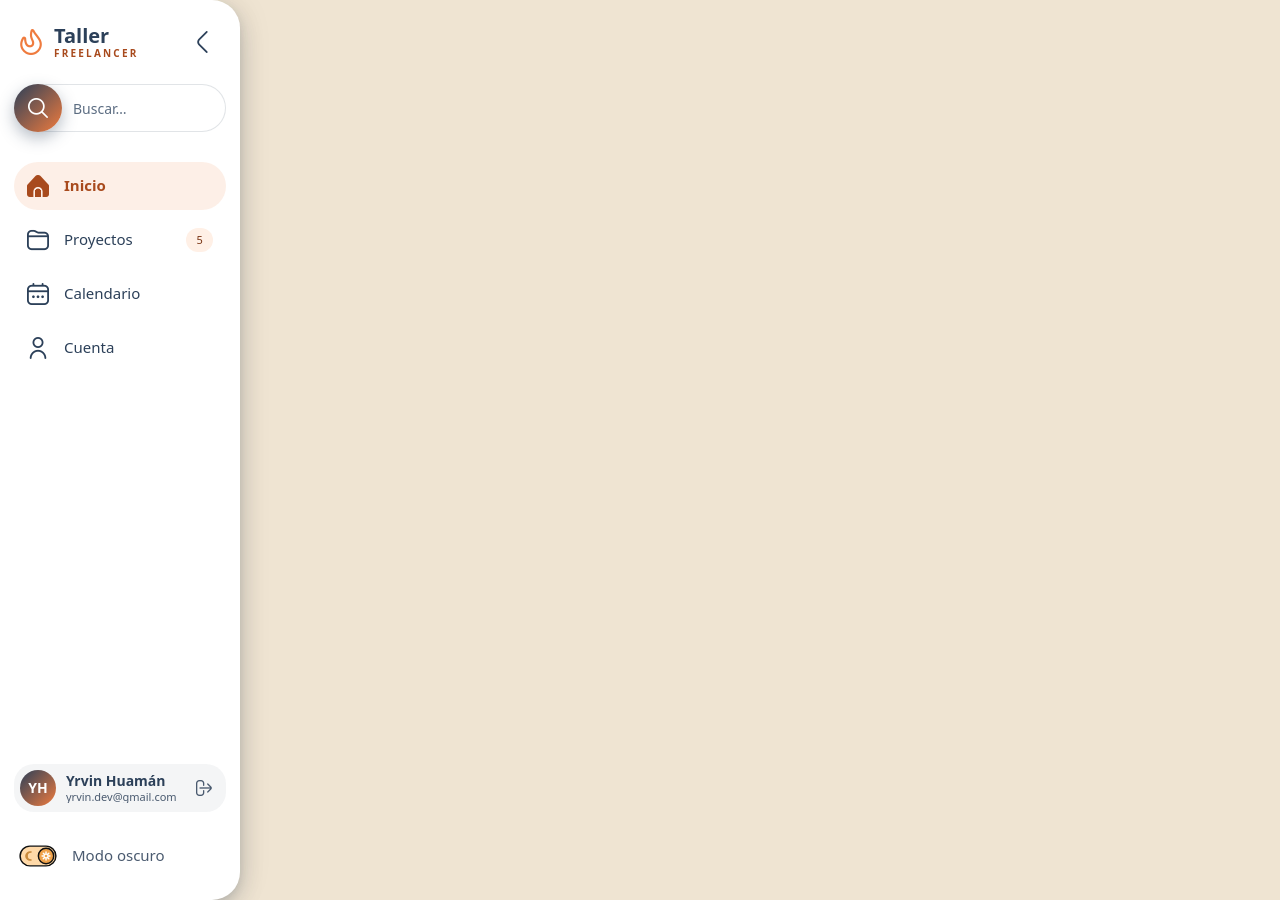
Sidebar › el botón de tema muestra la acción y cambia el tema
This screenshot has width=1280, height=900.
Click the button "Modo oscuro": (120, 856) [14,832,226,880]
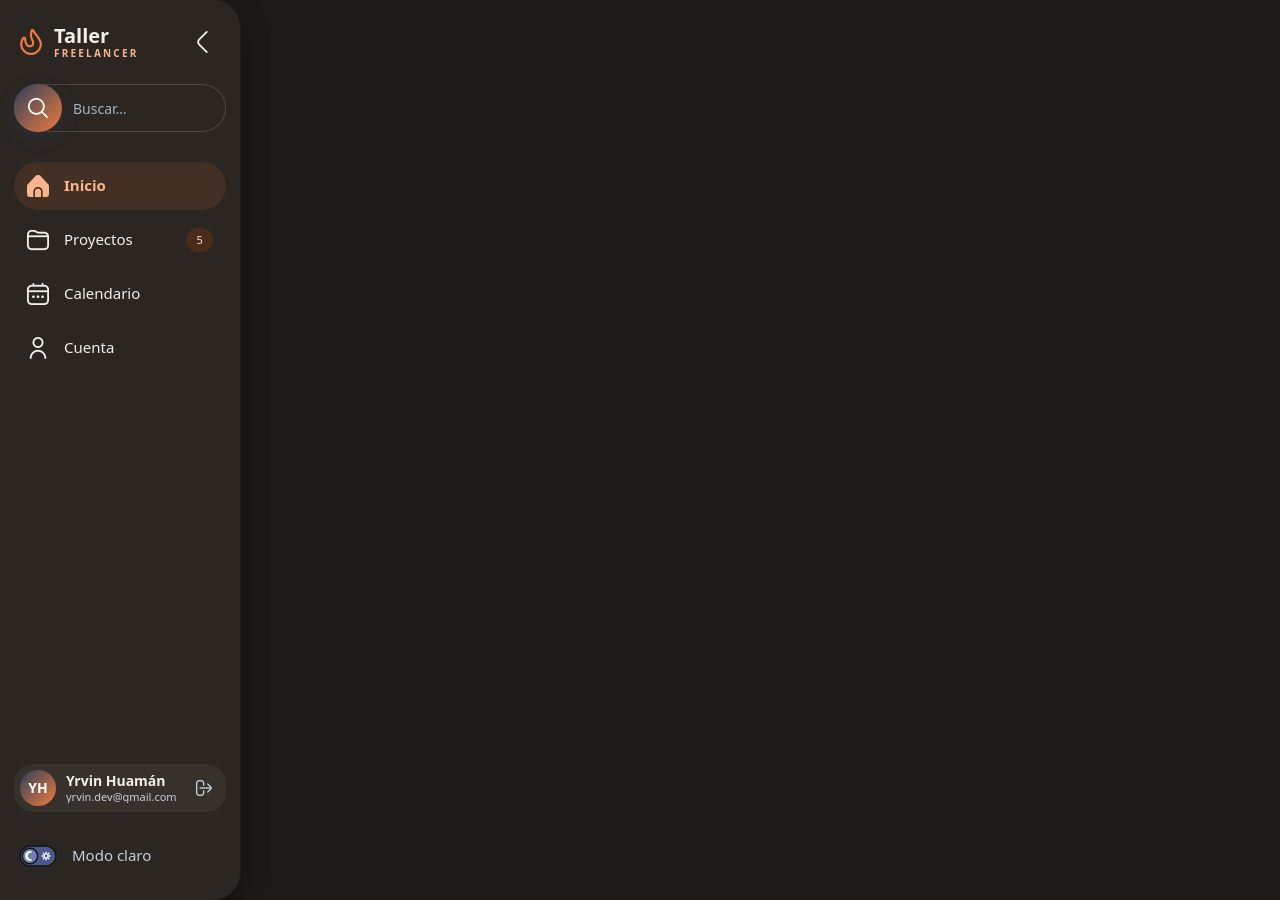
Expected: the button "Modo claro" is shown, [14,832,226,880]
